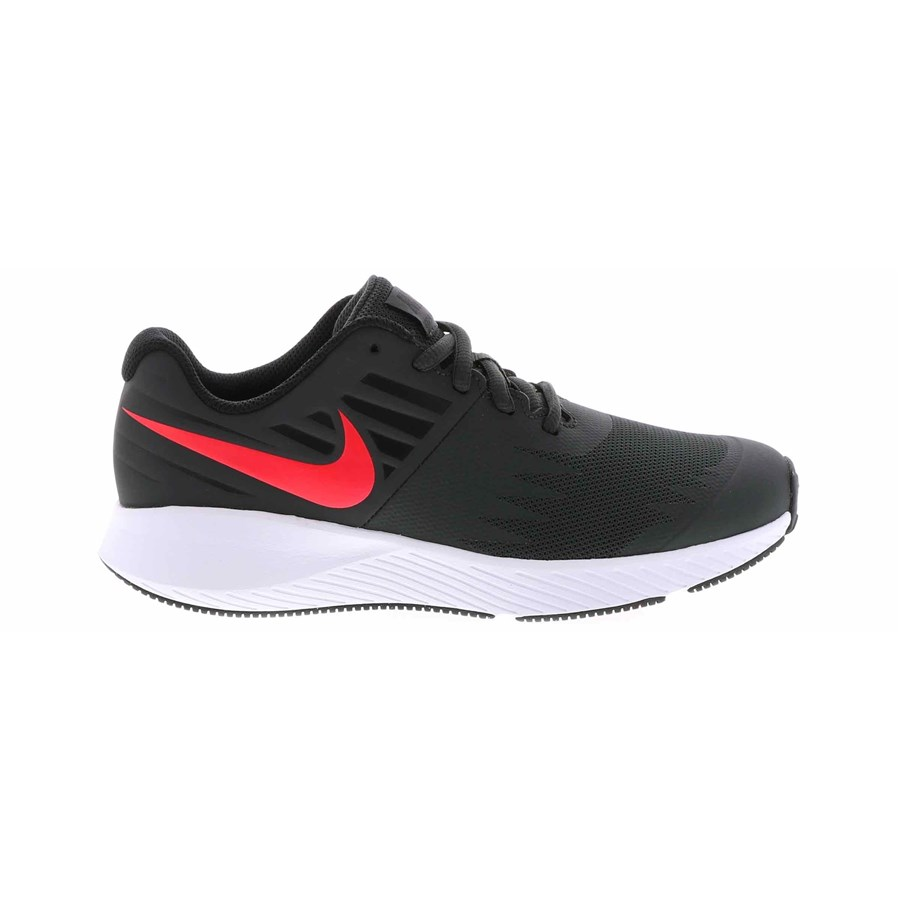nike: (128, 409, 381, 514)
